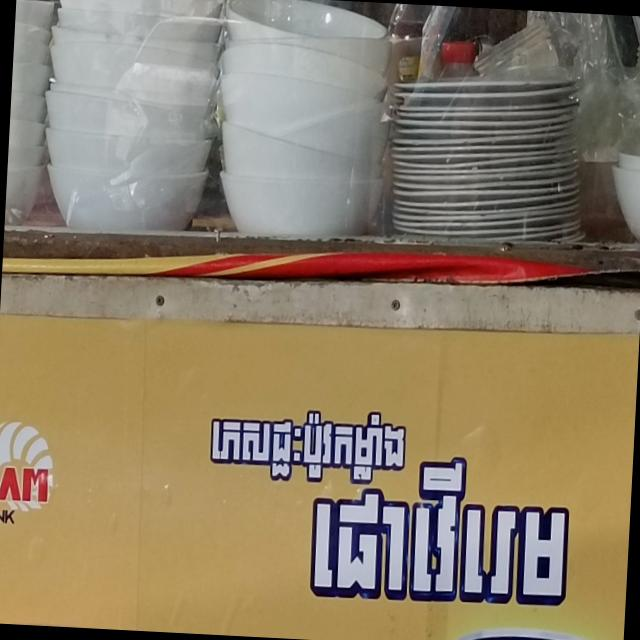Yolov11kh: (302, 447, 577, 620), (203, 399, 416, 490)
